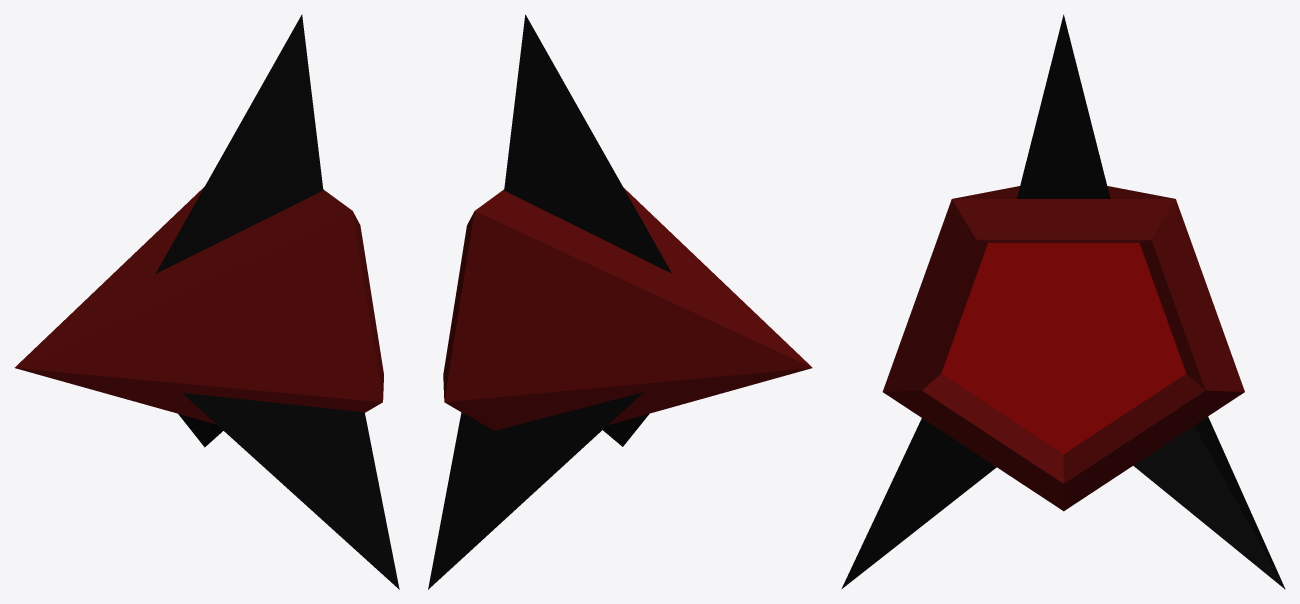
File: Enemy3son.fbx
3 views of the same model, side by side, from view 1: azimuth 30°, elevation 25°; view 2: azimuth 150°, elevation 25°; view 3: azimuth 270°, elevation 25° (orthographic). The views are drawn at different scales.
Visible parts, largest first — view 1: Cone.002; view 2: Cone.002; view 3: Cone.002.
Part boxes in pixels (x1,y1,x2,y2): Cone.002: [14, 14, 399, 589]; Cone.002: [428, 14, 812, 589]; Cone.002: [841, 14, 1285, 589].
Bounding box in the file's own units: 213 × 333 × 233.
